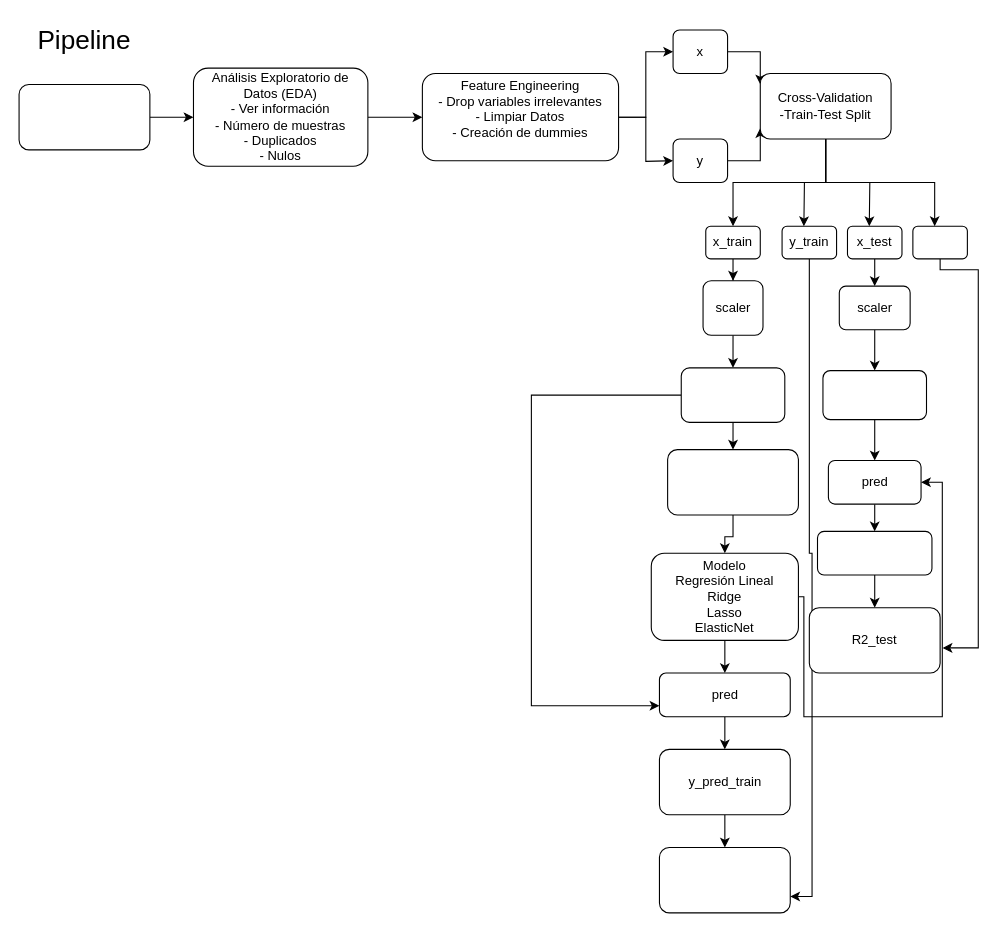
The diagram is 1006 pixels wide and 932 high, and some of its shapes have lost their labels. The shapes that lost their labels are listed below. From the top down, each one's box as (x1, y1, x2, y2) in pixels, then its label:
(18, 83, 150, 150): Dataset
(912, 225, 967, 259): y_test
(680, 367, 785, 422): X_train_scaled
(822, 370, 927, 420): X_test_scaled
(667, 449, 798, 515): Regresión y = B0X + B1X + ... + BnXn
(816, 530, 932, 575): y_pred_test
(658, 846, 790, 913): R2_train
